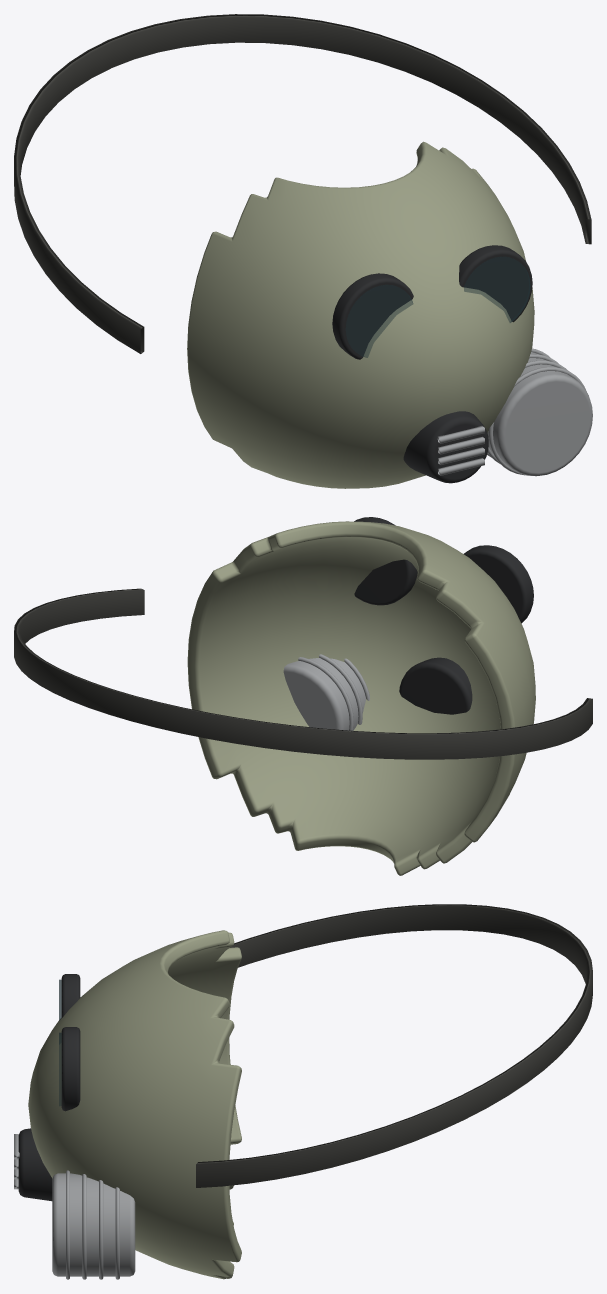
File: mask_gas_CT.glb
The picture shows the model from 3 angles, top to bottom: view 1: azimuth 30°, elevation 25°; view 2: azimuth 150°, elevation 25°; view 3: azimuth 270°, elevation 25°; orthographic projection. The views are drawn at different scales.
Parts seen in each view (by area): view 1: mask@Head; view 2: mask@Head; view 3: mask@Head.
Part boxes in pixels (box(x1,y1,x2,y2)): mask@Head: box(14, 14, 592, 488); mask@Head: box(14, 517, 592, 875); mask@Head: box(14, 904, 592, 1279).
Bounding box in the file's own units: 0.2925 × 0.1746 × 0.3138.
